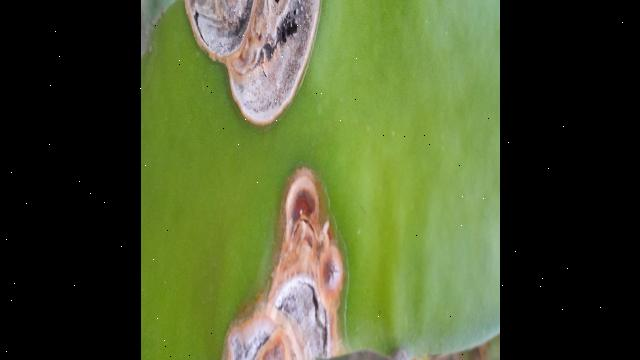stemcanker: (223, 167, 347, 360), (188, 2, 321, 129)
